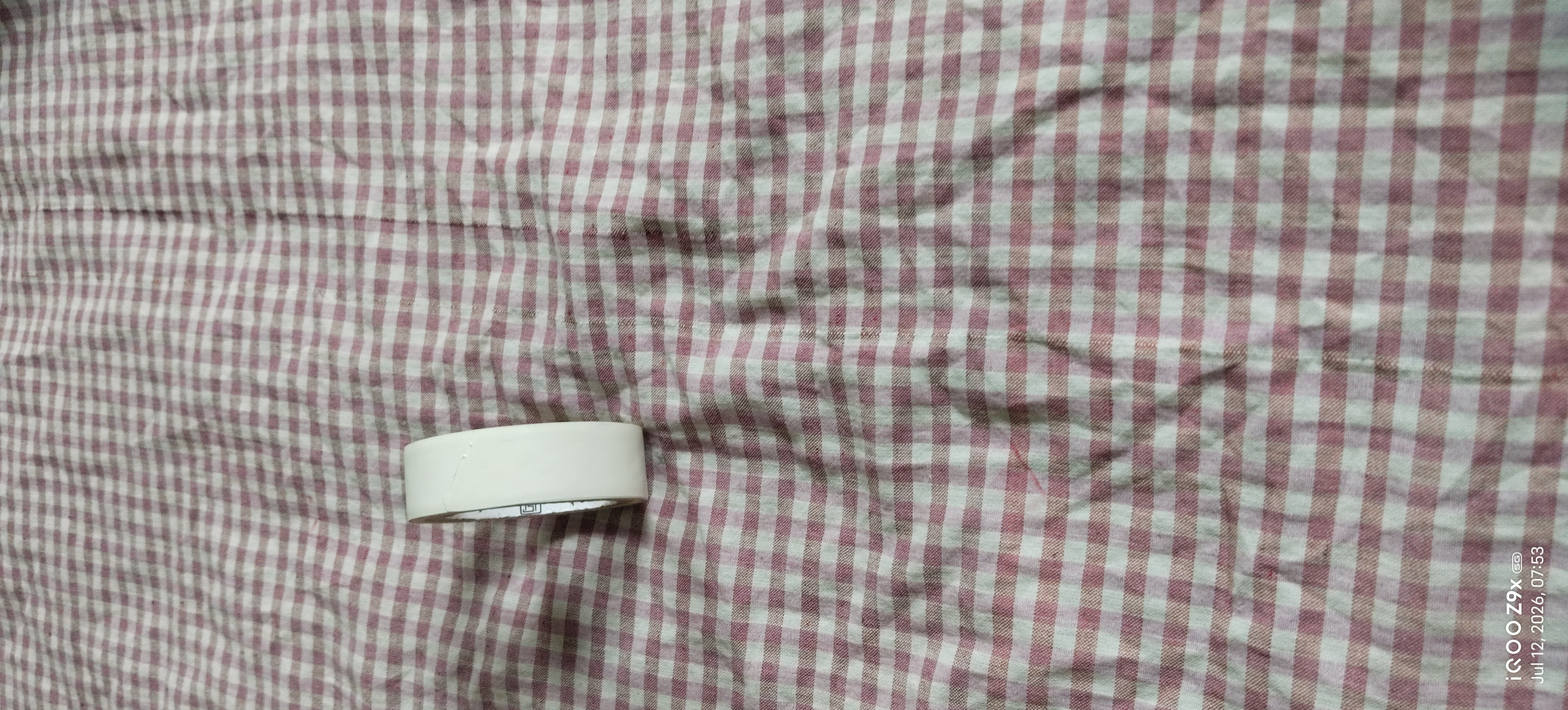tape_roll: (379, 405, 682, 554)
